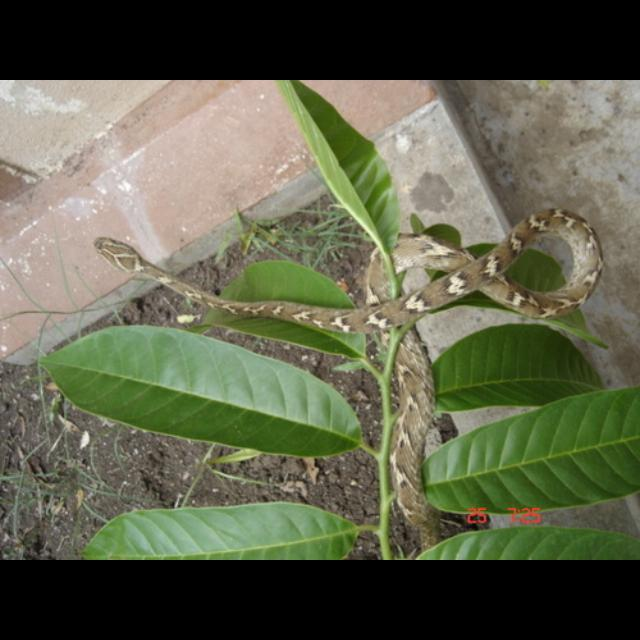snake: (85, 213, 607, 329)
